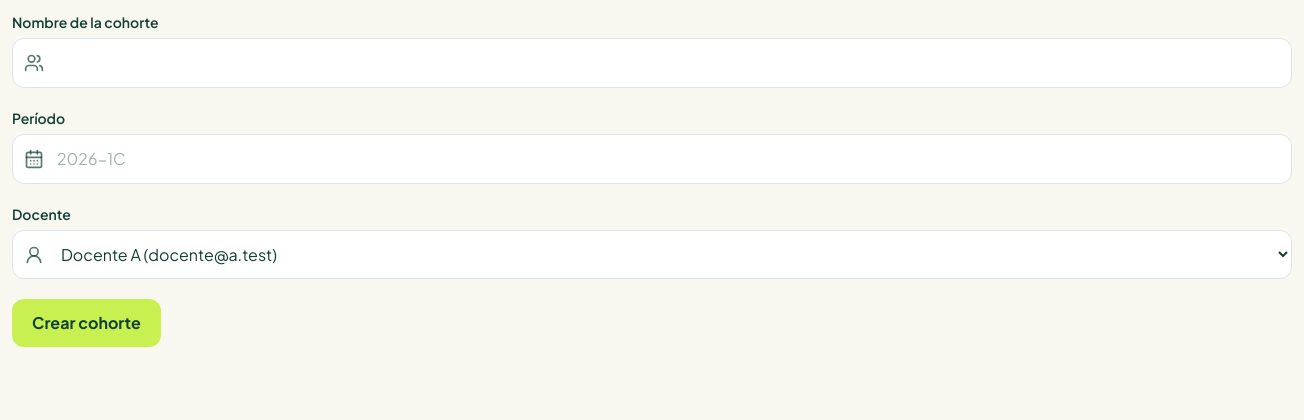
it: FormularioCohorte › no envía si el nombre y el período están vacíos
This screenshot has width=1304, height=420.
What coordinates should you click on to do the following:
click the button "Crear cohorte"
I would click on:
 (86, 323)
Its box is [12,299,161,347].
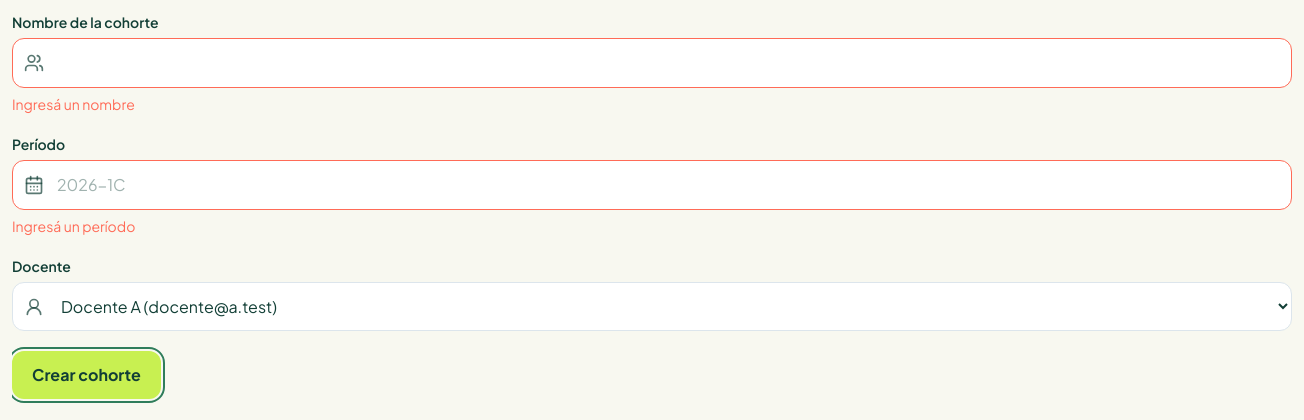
Result: the text "Ingresá un nombre" is shown at [12,95,135,113]
Result: the text "Ingresá un período" is shown at [12,217,135,235]
